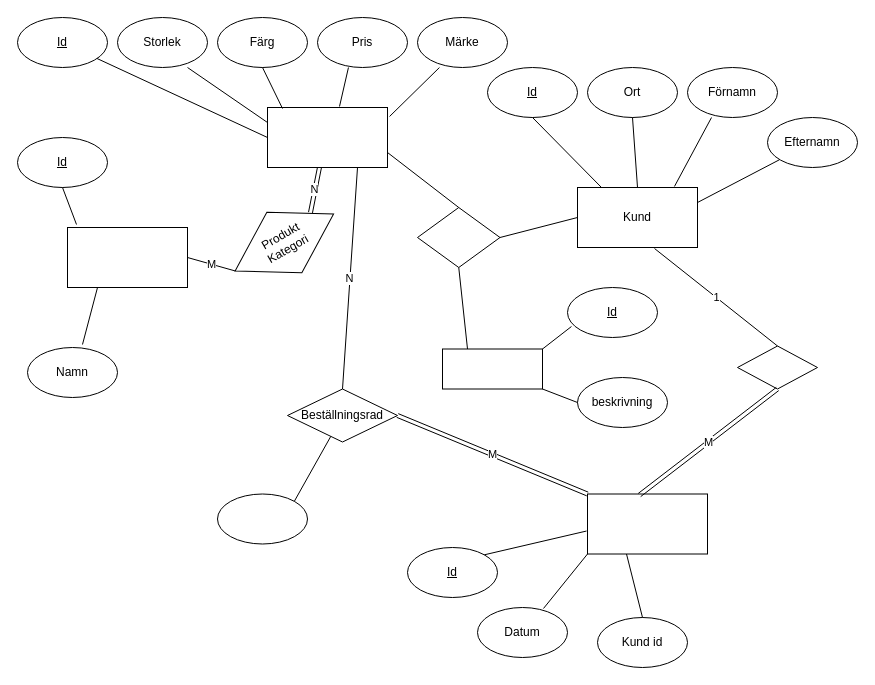
This 875x685 diagram has some shape labels left out. Each missing label, with the centre of its shape:
"Antal" belongs at [262,518].
"Beställning" belongs at [647,523].
"Betyg" belongs at [492,368].
"Har beställt" belongs at [777,367].
"Kategori" belongs at [127,257].
"Produkt" belongs at [327,137].
"Produkt Betyg" belongs at [458,237].
